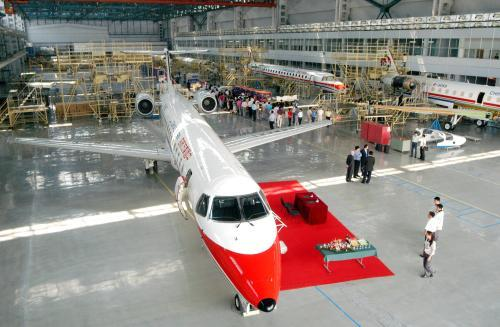airplane: (8, 43, 336, 316)
